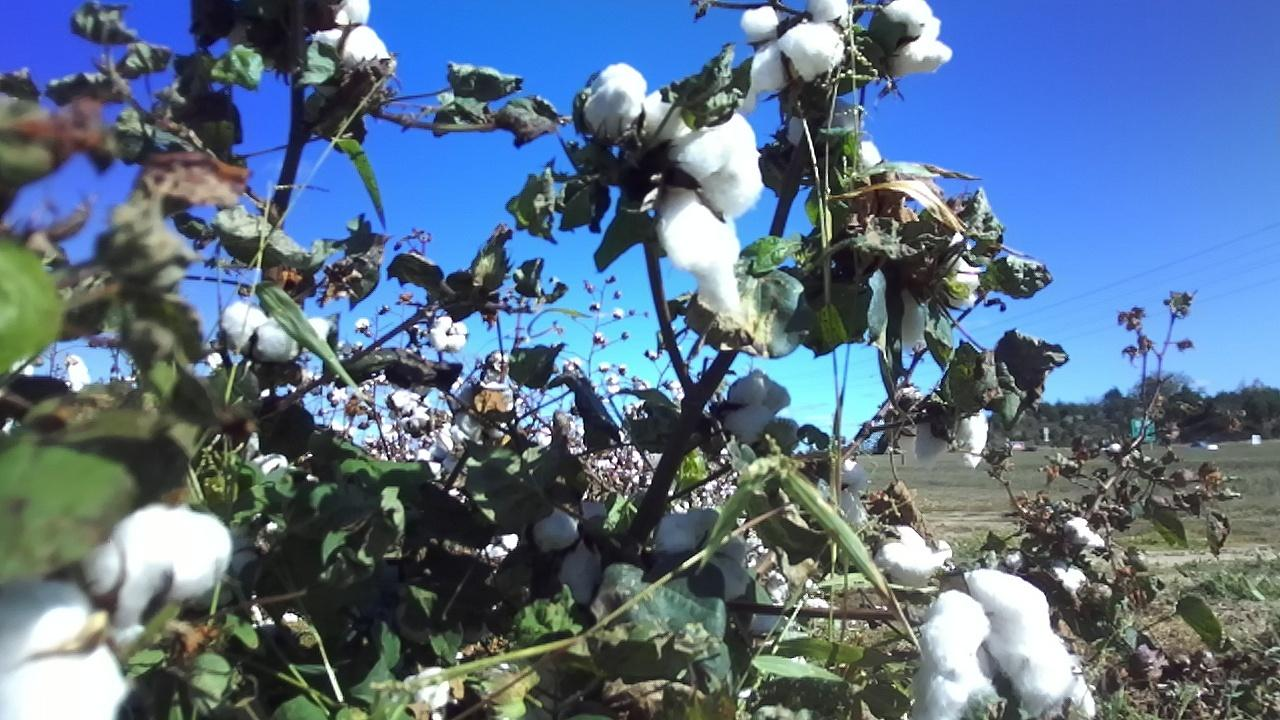cotton_ready: (0, 504, 232, 720), (581, 62, 760, 317), (910, 567, 1077, 720), (868, 223, 980, 354), (740, 0, 847, 120), (532, 494, 621, 611), (652, 509, 755, 607), (216, 301, 340, 365), (785, 102, 885, 179), (311, 0, 404, 77), (873, 0, 952, 80), (870, 524, 954, 590), (724, 367, 792, 444), (912, 405, 987, 474), (812, 455, 870, 536)
